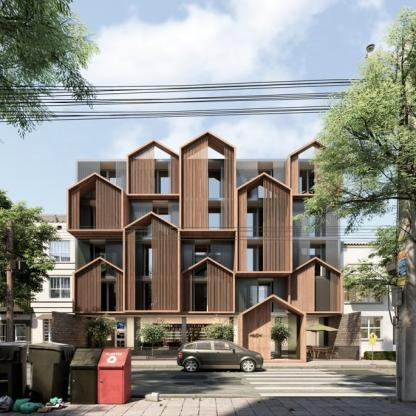Balcony: (242, 296, 304, 362)
Building Outline: (51, 130, 361, 364)
Door: (270, 301, 296, 359)
Facade: (50, 130, 363, 365)
Floor Slab: (75, 197, 340, 200), (75, 237, 340, 240), (75, 278, 340, 280)
Glass Wall: (186, 317, 234, 350), (134, 317, 182, 350), (239, 245, 288, 276), (184, 245, 232, 276), (237, 170, 288, 199), (130, 245, 177, 276), (183, 283, 232, 312), (183, 208, 232, 237), (240, 208, 289, 237), (183, 170, 232, 199), (238, 282, 288, 310), (293, 245, 337, 276), (130, 208, 177, 237), (130, 282, 177, 310), (133, 170, 178, 199), (293, 170, 337, 199), (293, 208, 337, 237), (293, 282, 338, 310), (93, 281, 121, 312), (96, 245, 124, 275), (93, 208, 121, 237), (93, 170, 121, 199)
Window: (238, 174, 290, 271), (125, 213, 177, 310), (182, 132, 234, 229), (69, 174, 121, 229), (128, 141, 180, 194), (290, 141, 341, 194), (75, 259, 125, 312), (291, 259, 341, 312), (183, 259, 233, 312)
